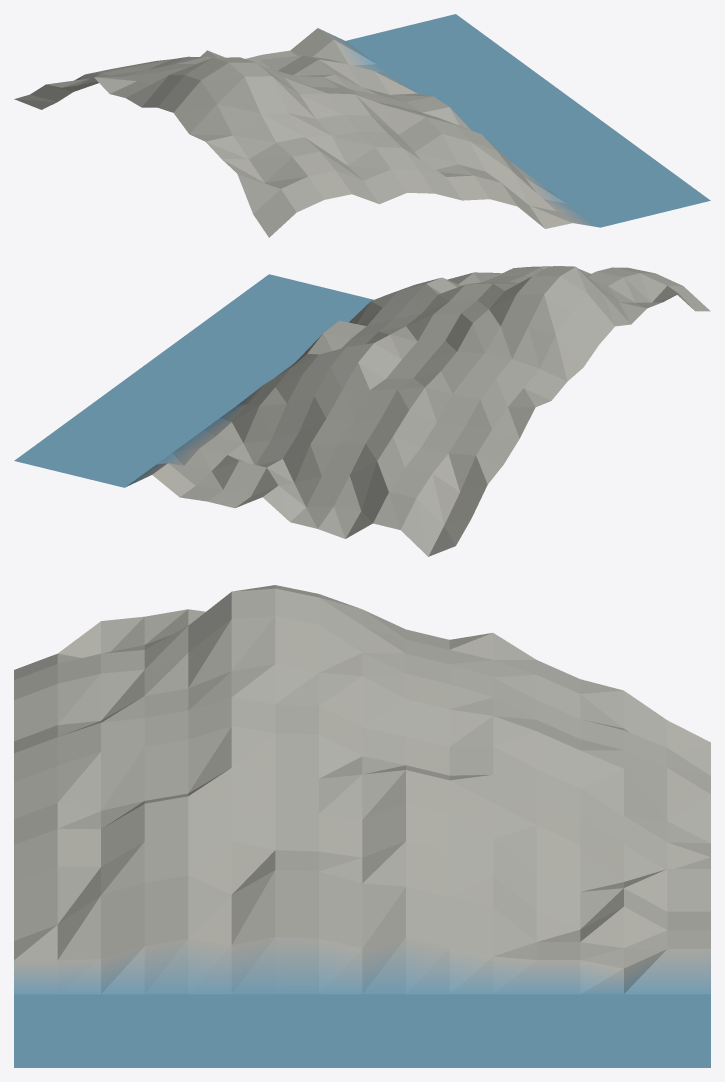
3 views of the same model, one above another, from view 1: azimuth 30°, elevation 25°; view 2: azimuth 150°, elevation 25°; view 3: azimuth 270°, elevation 25° (orthographic). The views are drawn at different scales.
Size of the model in its own units: 32 by 11.23 by 32.
